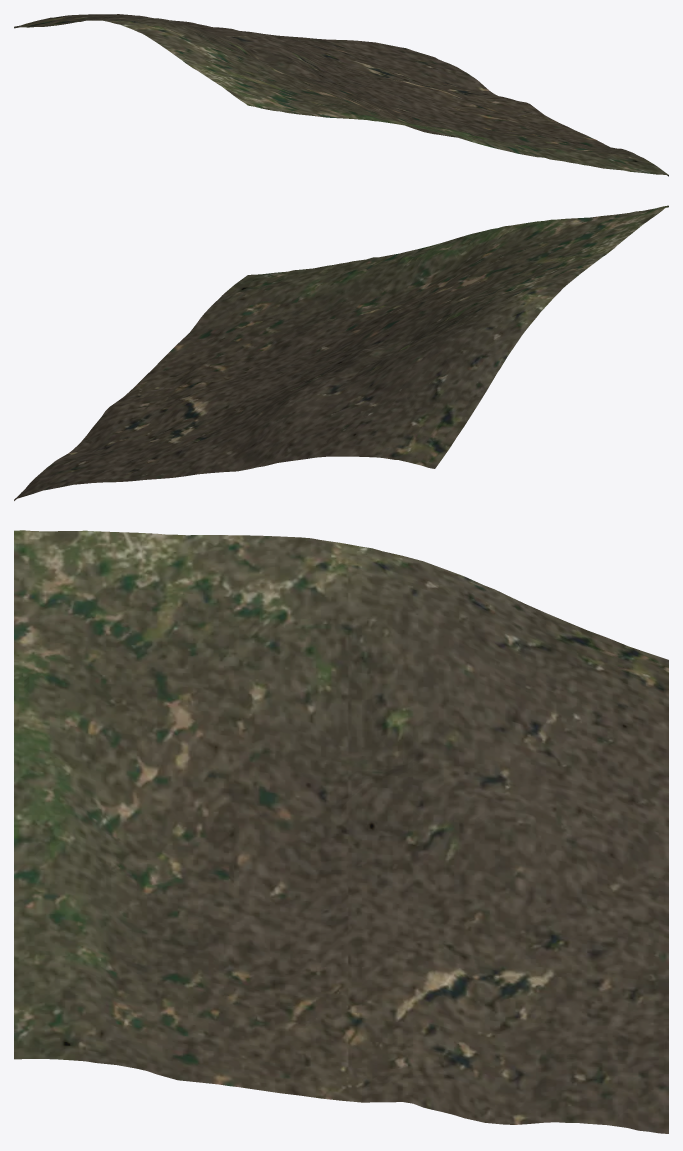
3 views of the same model, one above another, from view 1: azimuth 30°, elevation 25°; view 2: azimuth 150°, elevation 25°; view 3: azimuth 270°, elevation 25° (orthographic). The views are drawn at different scales.
Bounding box in the file's own units: 250 × 129 × 241.
Materials: 1 (1 with a texture image).
